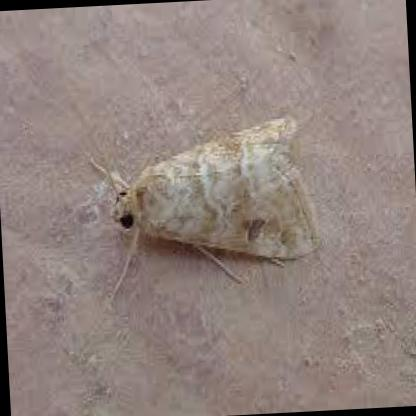Hellula undalis: (83, 113, 322, 314)
